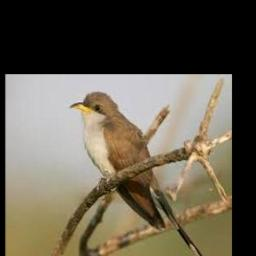Cuckoo: (70, 91, 209, 256)
